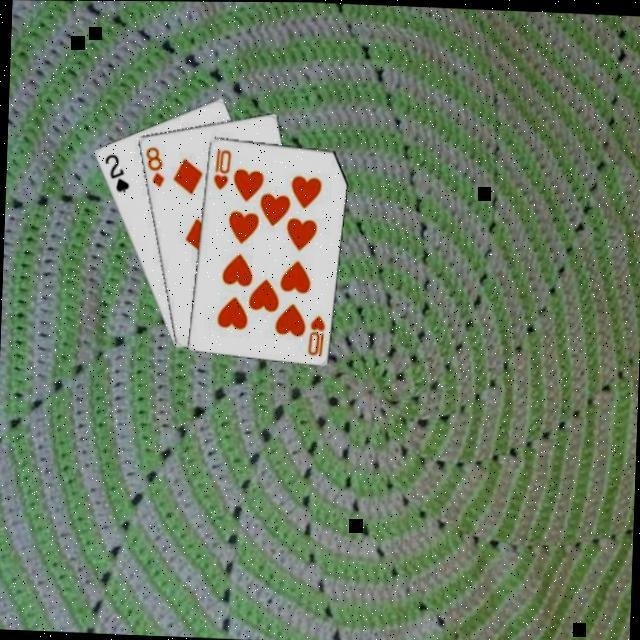10H: (210, 144, 235, 191), (304, 310, 328, 357)
2S: (100, 149, 134, 194)
8D: (141, 141, 169, 188)
